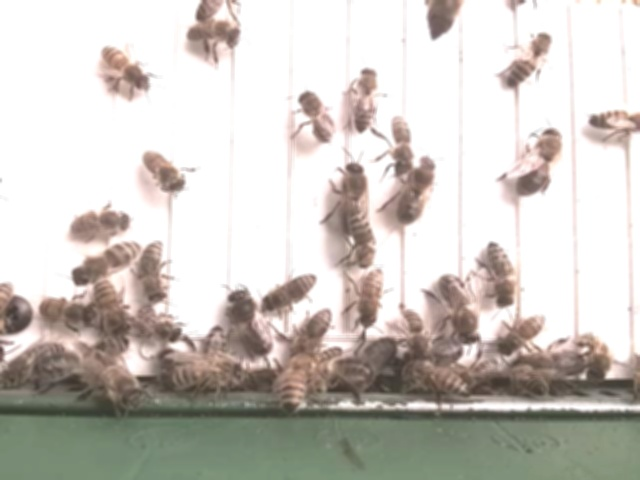Drone: (514, 123, 566, 196), (226, 285, 276, 359), (394, 155, 441, 226), (436, 272, 481, 343), (511, 344, 588, 381), (334, 159, 368, 235)
Worker: (73, 238, 144, 282), (98, 43, 156, 94), (506, 28, 554, 88), (484, 239, 522, 309), (138, 236, 175, 303), (260, 269, 320, 310), (134, 303, 189, 346), (296, 87, 337, 144), (68, 204, 135, 238), (142, 147, 190, 194), (500, 311, 548, 356), (184, 16, 245, 50), (396, 304, 432, 360), (296, 306, 333, 360), (356, 265, 387, 329), (96, 276, 129, 336), (346, 207, 378, 268), (352, 64, 380, 133), (588, 104, 640, 137), (38, 297, 94, 327), (386, 116, 414, 175)
